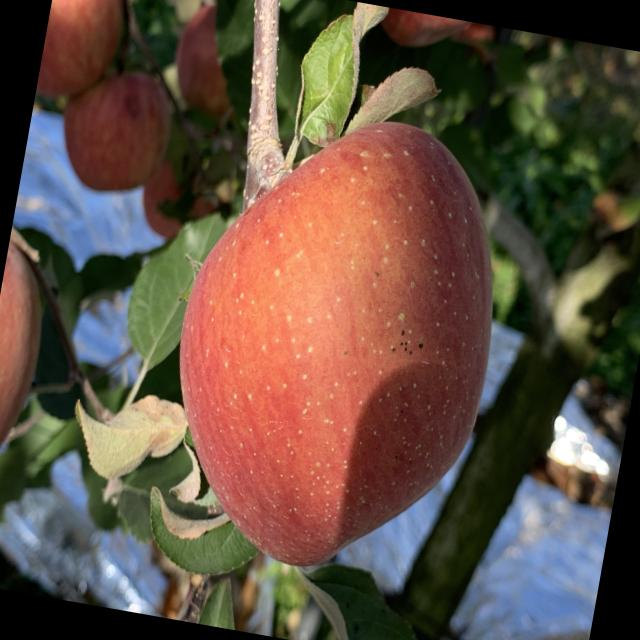fresh: (136, 84, 536, 603)
